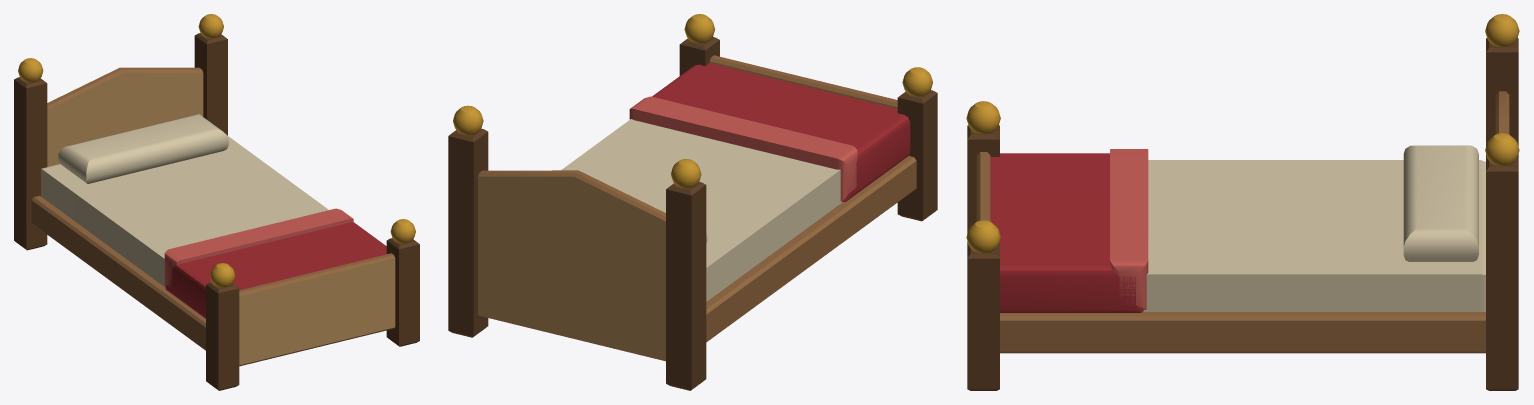
File: Bed_09.glb
3 renders of one model, left to right at view 1: azimuth 30°, elevation 25°; view 2: azimuth 150°, elevation 25°; view 3: azimuth 270°, elevation 25°, orthographic. The views are drawn at different scales.
Parts seen in each view (by area): view 1: Bed_09; view 2: Bed_09; view 3: Bed_09.
Boxes of the visible parts, x1=… form: Bed_09: x1=14, y1=14, x2=419, y2=390; Bed_09: x1=448, y1=14, x2=937, y2=390; Bed_09: x1=966, y1=14, x2=1519, y2=390.
Bounding box in the file's own units: 4.61 × 4.03 × 8.06.
